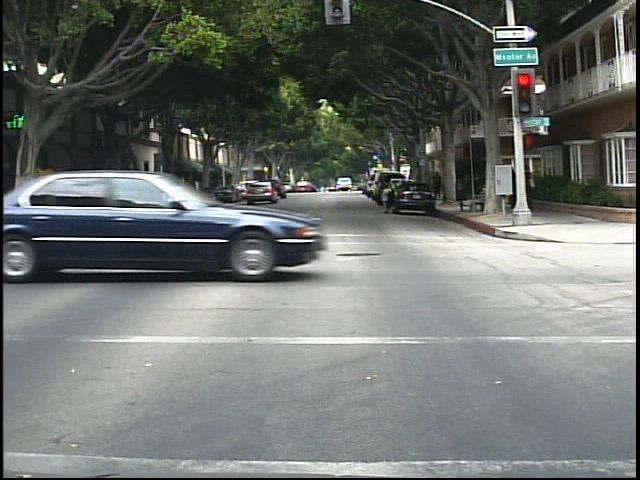person: (155, 172, 193, 241), (373, 172, 398, 217), (433, 169, 446, 200)
